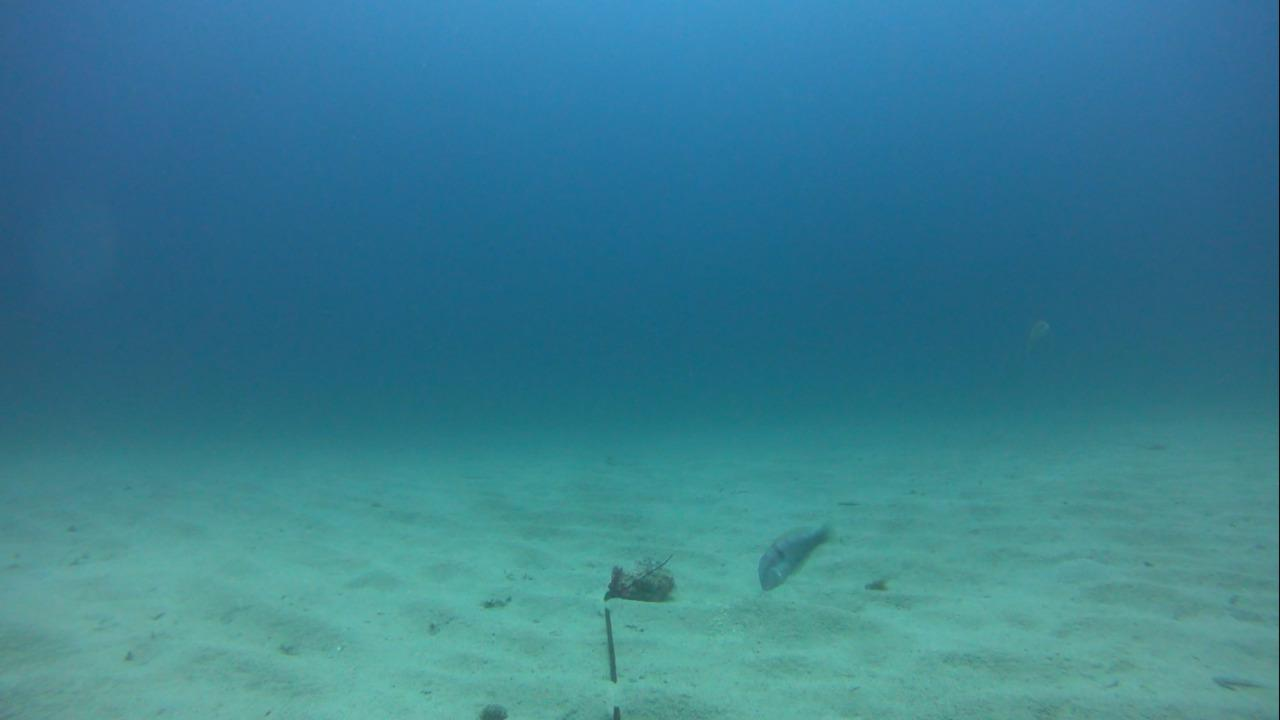raor: (749, 520, 834, 593)
